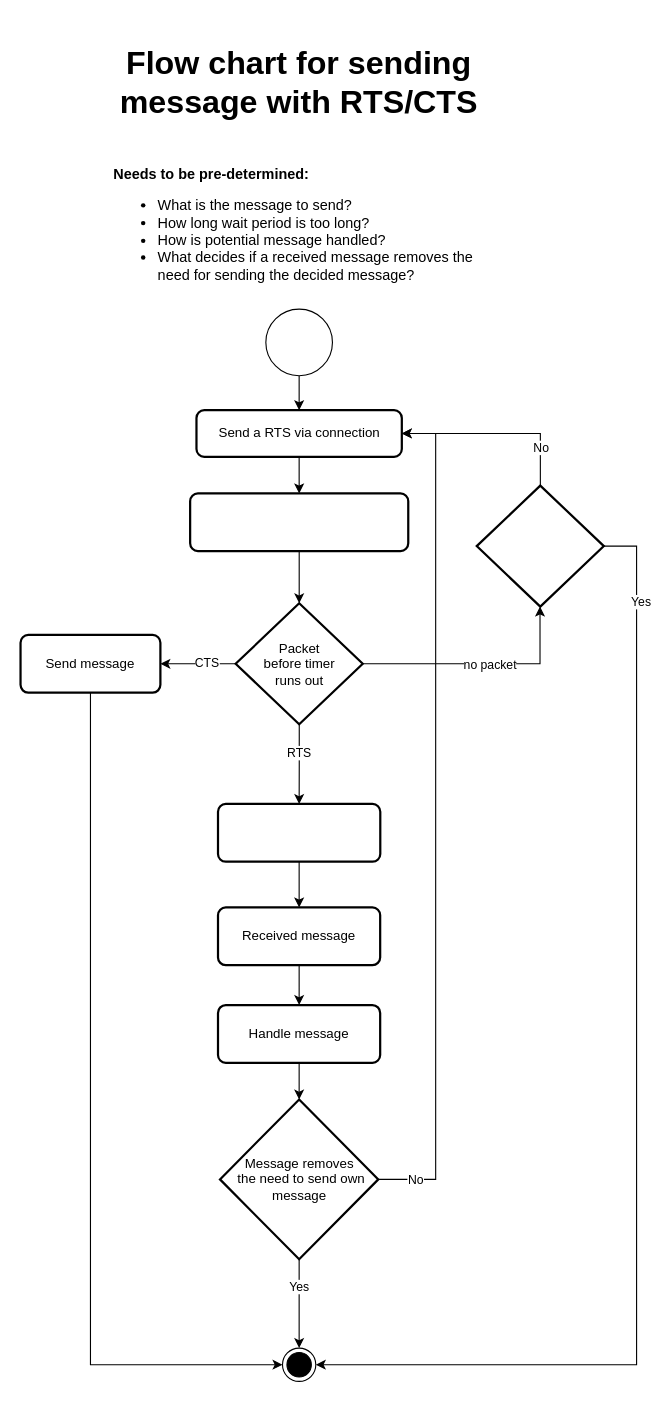
Image size: 669x1401. Some labels were removed from this diagram. Here are the shapes that lost their labels. From the top down, the centre of each, then its label:
At (x=298, y=522): "Start a random timer proportional to the amount of times the RTS failed".
At (x=539, y=545): "Waited for too long".
At (x=298, y=832): "Respond with CTS".
